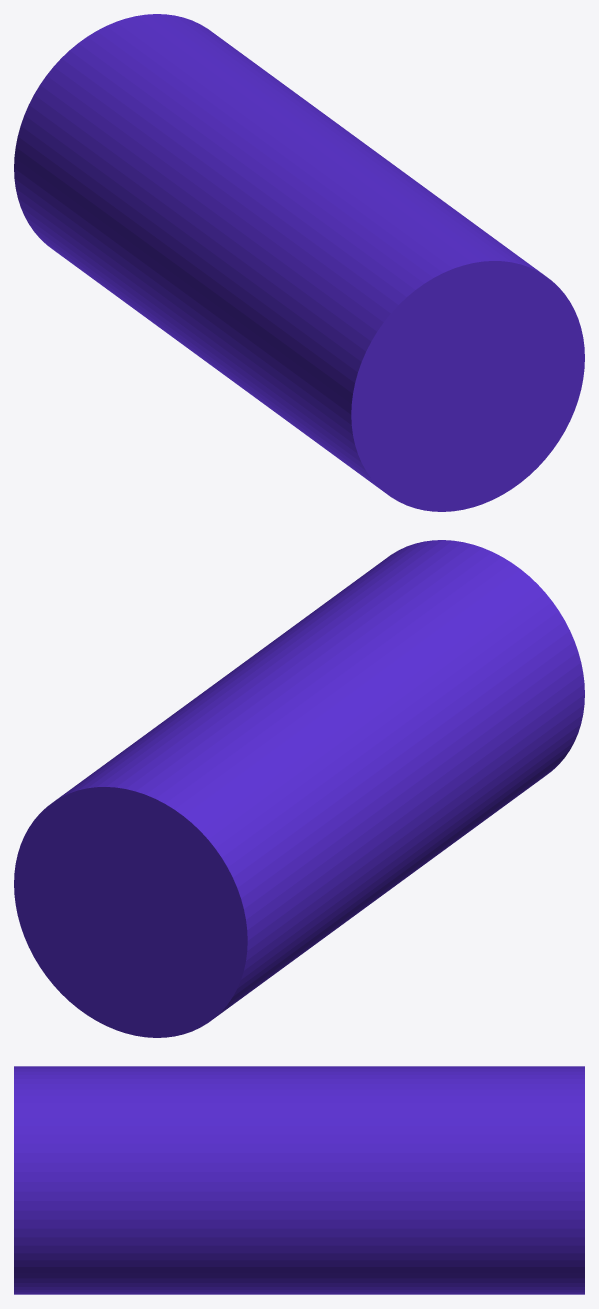
Rendered from Blue-buoy.color.dae.
3 views of the same model, one above another, from view 1: azimuth 30°, elevation 25°; view 2: azimuth 150°, elevation 25°; view 3: azimuth 270°, elevation 25° (orthographic). The views are drawn at different scales.
Visible parts, largest first — view 1: YELLOW-BUOY; view 2: YELLOW-BUOY; view 3: YELLOW-BUOY.
Boxes of the visible parts, <box> form: YELLOW-BUOY: <box>14,14,584,511</box>; YELLOW-BUOY: <box>14,540,584,1037</box>; YELLOW-BUOY: <box>14,1066,584,1294</box>.
Bounding box in the file's own units: 10.16 × 25.4 × 10.15.
